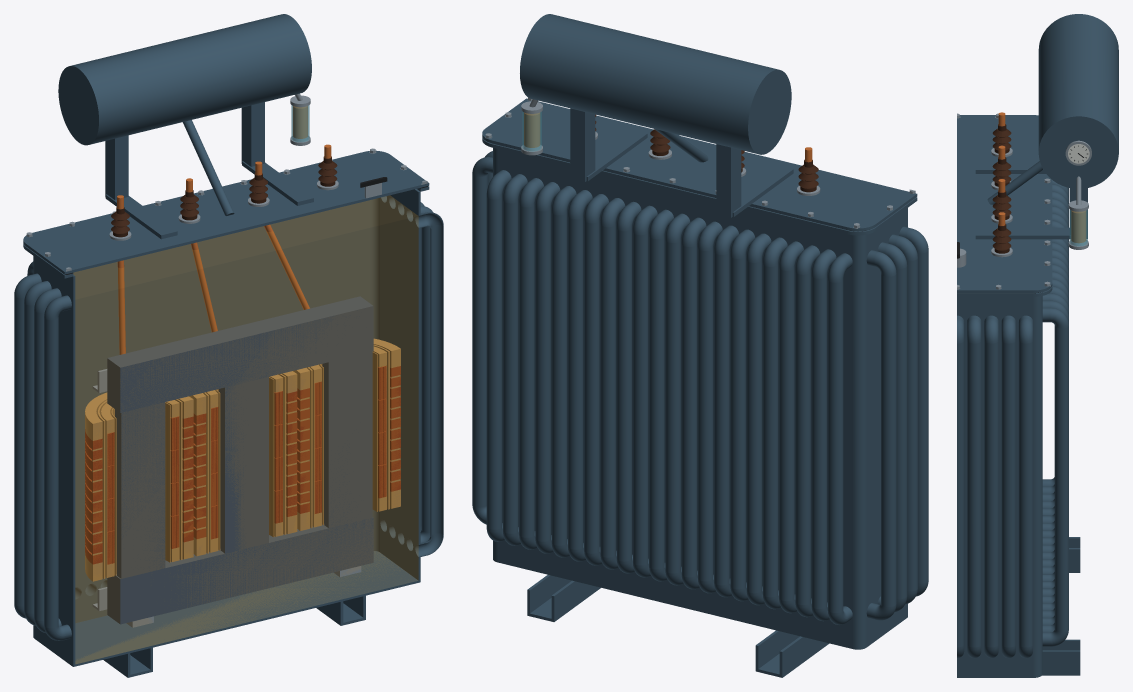
The model's file is transformer-section.glb.
3 views of the same model, side by side, from view 1: azimuth 30°, elevation 25°; view 2: azimuth 150°, elevation 25°; view 3: azimuth 270°, elevation 25° (orthographic). The views are drawn at different scales.
Parts seen in each view (by area): view 1: oil_domain, tank_body, conservator, yoke_upper, tank_cover, yoke_lower, core_0_0_+1, core_2_0_+1, core_1_0_+1, tube_3_4, tube_1_4, tube_3_5 (+23 smaller); view 2: tank_body, conservator, tank_cover, tube_2_0, tube_2_17, tube_2_21, tube_2_4, tube_2_8, tube_3_7, tube_2_13, tube_2_7, tube_2_10 (+26 smaller); view 3: conservator, tank_cover, tank_body, tube_2_21, tube_1_5, tube_1_7, tube_1_6, tube_1_8, tube_1_4, base_423.08799999999997, conservator_bracket_1, breather_body (+13 smaller).
Part boxes in pixels (x1,y1,x2,y2): oil_domain: (73,195,418,663); tank_body: (33,189,420,666); conservator: (58,14,311,145); yoke_upper: (107,296,373,412); tank_cover: (23,150,429,274); yoke_lower: (107,517,373,624); core_0_0_+1: (117,402,165,578); core_2_0_+1: (324,351,372,528); core_1_0_+1: (220,377,268,553); tube_3_4: (44,295,71,640); tube_1_4: (415,212,443,556); tube_3_5: (34,288,61,632); tank_body: (493,148,907,649); conservator: (520,14,791,154); tank_cover: (482,98,917,231); tube_2_0: (827,253,852,624); tube_2_17: (551,186,576,557); tube_2_21: (486,170,511,541); tube_2_4: (762,237,787,609); tube_2_8: (697,221,722,593); tube_3_7: (866,250,896,620); tube_2_13: (616,201,641,573); tube_2_7: (714,225,738,597); tube_2_10: (665,213,690,585); conservator: (1038,14,1118,188); tank_cover: (957,115,1052,292); tank_body: (957,296,1042,677); tube_2_21: (1042,308,1068,646); tube_1_5: (967,315,981,657); tube_1_7: (1001,315,1015,657); tube_1_6: (984,315,998,657); tube_1_8: (1018,315,1032,657); tube_1_4: (957,315,964,657); base_423.08799999999997: (1042,639,1080,675); conservator_bracket_1: (975,227,1070,239); breather_body: (1069,209,1087,246).
Size of the model in its own units: 1.56 by 2.13 by 0.5647.
